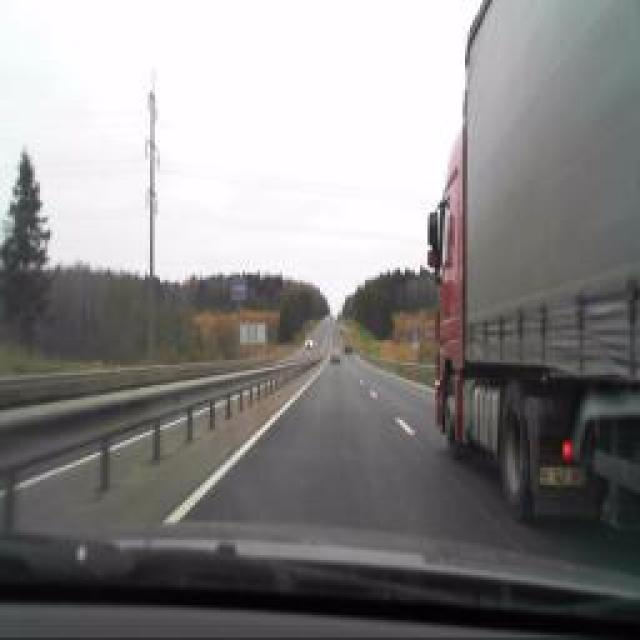sign: (410, 324, 420, 344)
